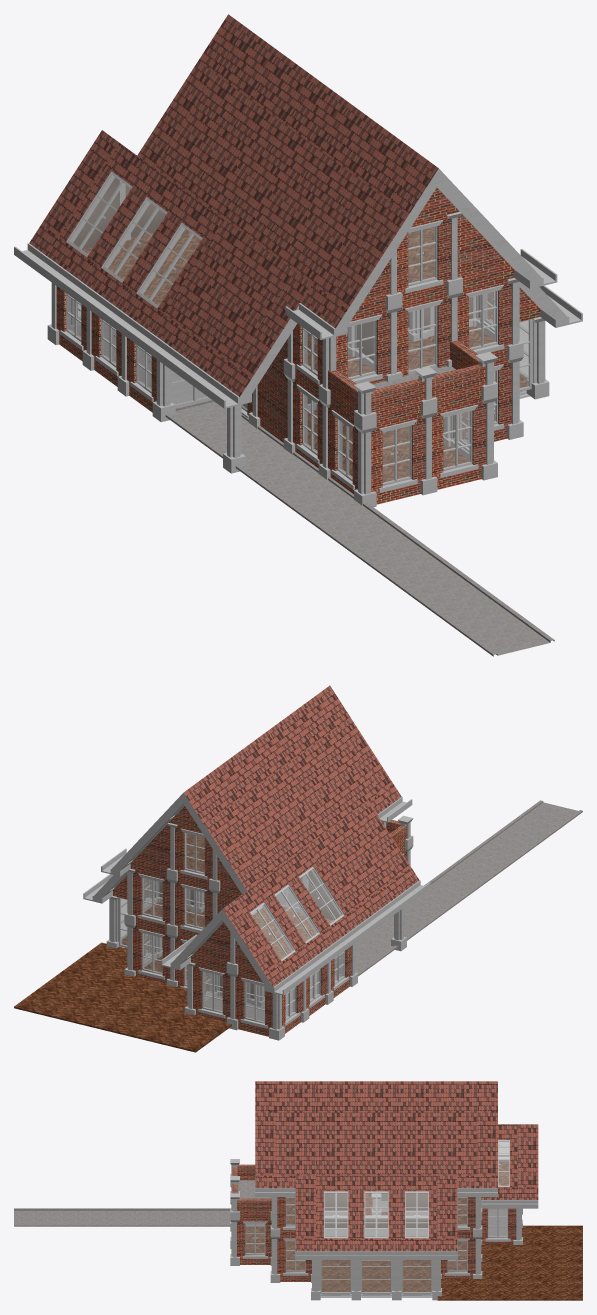
Rendered from royal-house.glb.
3 views of the same model, one above another, from view 1: azimuth 30°, elevation 25°; view 2: azimuth 150°, elevation 25°; view 3: azimuth 270°, elevation 25° (orthographic). The views are drawn at different scales.
Parts seen in each view (by area): view 1: Royal house 1 (baking).881, Royal house 1 (baking).884, Royal house 1 (baking).883, Royal house 1 (baking).915, Royal house 1 (baking).909, Royal house 1 (baking).914, Royal house 1 (baking).920, Royal house 1 (baking).919, Royal house 1 (baking).889, Royal house 1 (baking).887, Royal house 1 (baking).895, Royal house 1 (baking).699 (+81 smaller); view 2: Royal house 1 (baking).577, Royal house 1 (baking).881, Royal house 1 (baking).914, Royal house 1 (baking).919, Royal house 1 (baking).883, Royal house 1 (baking).884, Royal house 1 (baking).909, Royal house 1 (baking).920, Royal house 1 (baking).915, Royal house 1 (baking).887, Royal house 1 (baking).889, Royal house 1 (baking).895 (+55 smaller); view 3: Royal house 1 (baking).577, Royal house 1 (baking).881, Royal house 1 (baking).902, Royal house 1 (baking).927, Royal house 1 (baking).521, Royal house 1 (baking).922, Royal house 1 (baking).923, Royal house 1 (baking).928, Royal house 1 (baking).921, Royal house 1 (baking).901, Royal house 1 (baking).918, Royal house 1 (baking).894 (+77 smaller).
Part boxes in pixels (x1,y1,x2,y2): Royal house 1 (baking).881: (165, 399, 554, 656); Royal house 1 (baking).884: (164, 220, 259, 339); Royal house 1 (baking).883: (199, 246, 294, 365); Royal house 1 (baking).915: (225, 125, 320, 245); Royal house 1 (baking).909: (295, 177, 390, 296); Royal house 1 (baking).914: (260, 151, 355, 270); Royal house 1 (baking).920: (155, 74, 250, 193); Royal house 1 (baking).919: (190, 100, 285, 219); Royal house 1 (baking).889: (94, 169, 189, 287); Royal house 1 (baking).887: (129, 194, 224, 313); Royal house 1 (baking).895: (59, 143, 154, 262); Royal house 1 (baking).699: (457, 214, 514, 290); Royal house 1 (baking).577: (14, 942, 231, 1052); Royal house 1 (baking).881: (355, 800, 582, 976); Royal house 1 (baking).914: (290, 745, 356, 828); Royal house 1 (baking).919: (241, 781, 307, 863); Royal house 1 (baking).883: (332, 810, 398, 893); Royal house 1 (baking).884: (308, 828, 374, 911); Royal house 1 (baking).909: (314, 727, 380, 810); Royal house 1 (baking).920: (217, 799, 282, 881); Royal house 1 (baking).915: (266, 763, 331, 845); Royal house 1 (baking).887: (283, 846, 349, 929); Royal house 1 (baking).889: (259, 864, 325, 947); Royal house 1 (baking).895: (235, 882, 300, 964); Royal house 1 (baking).577: (437, 1225, 582, 1300); Royal house 1 (baking).881: (14, 1208, 230, 1226); Royal house 1 (baking).902: (316, 1175, 396, 1238); Royal house 1 (baking).927: (396, 1112, 437, 1175); Royal house 1 (baking).521: (321, 1260, 431, 1291); Royal house 1 (baking).922: (275, 1112, 315, 1175); Royal house 1 (baking).923: (356, 1112, 396, 1175); Royal house 1 (baking).928: (437, 1112, 477, 1175); Royal house 1 (baking).921: (316, 1112, 356, 1175); Royal house 1 (baking).901: (396, 1175, 437, 1238); Royal house 1 (baking).918: (396, 1081, 437, 1112); Royal house 1 (baking).894: (518, 1124, 538, 1187).
Size of the model in its own units: 23.6 by 19 by 56.28.
Materials: 8 (6 with a texture image).
